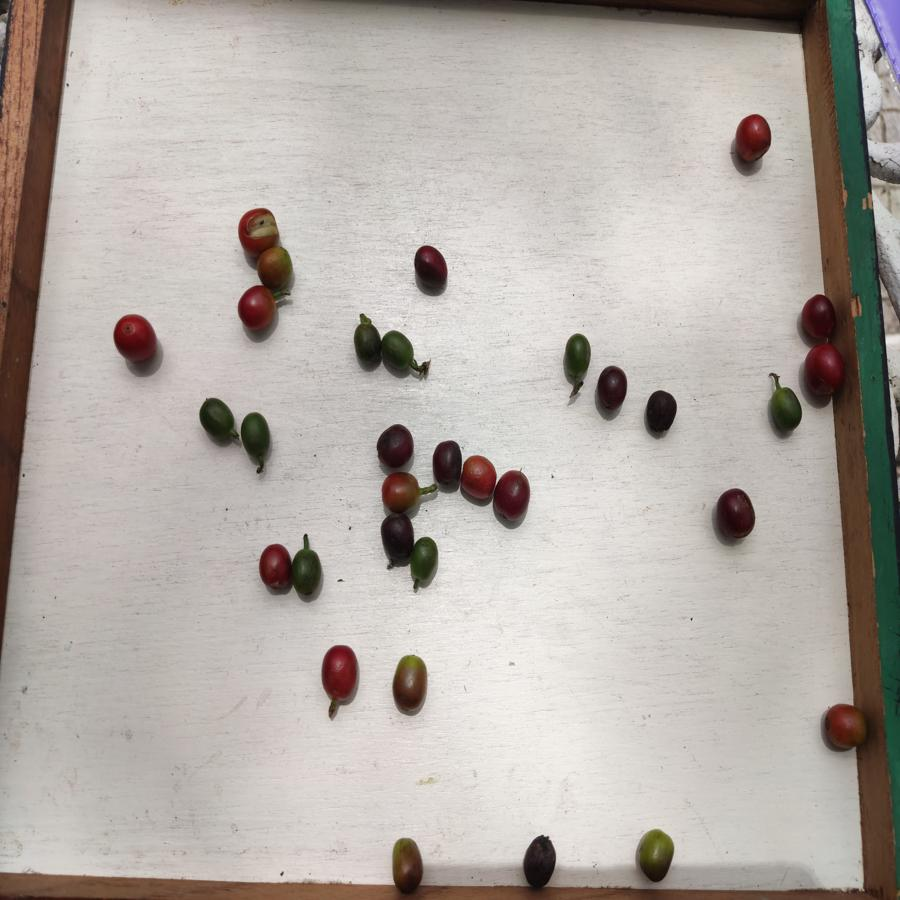Inmaduro: (198, 398, 234, 444), (290, 547, 322, 598), (239, 411, 271, 457), (381, 329, 414, 373), (771, 388, 803, 431), (353, 322, 383, 365), (564, 334, 591, 379), (412, 538, 438, 583)
Maduro: (320, 642, 360, 703), (112, 314, 159, 365), (237, 206, 284, 248), (237, 286, 277, 332), (735, 114, 773, 162), (259, 544, 293, 592), (461, 454, 495, 501)
Pinton: (821, 701, 869, 755), (389, 653, 427, 714), (390, 834, 424, 892), (639, 829, 675, 883), (381, 471, 422, 514), (258, 248, 295, 287)
Sobremaduro: (494, 464, 534, 523), (803, 343, 845, 397), (715, 487, 754, 538), (372, 422, 415, 468), (800, 295, 837, 341), (524, 836, 557, 887), (380, 515, 413, 564), (414, 245, 449, 290), (431, 439, 462, 488), (596, 364, 629, 409), (644, 391, 678, 434)
